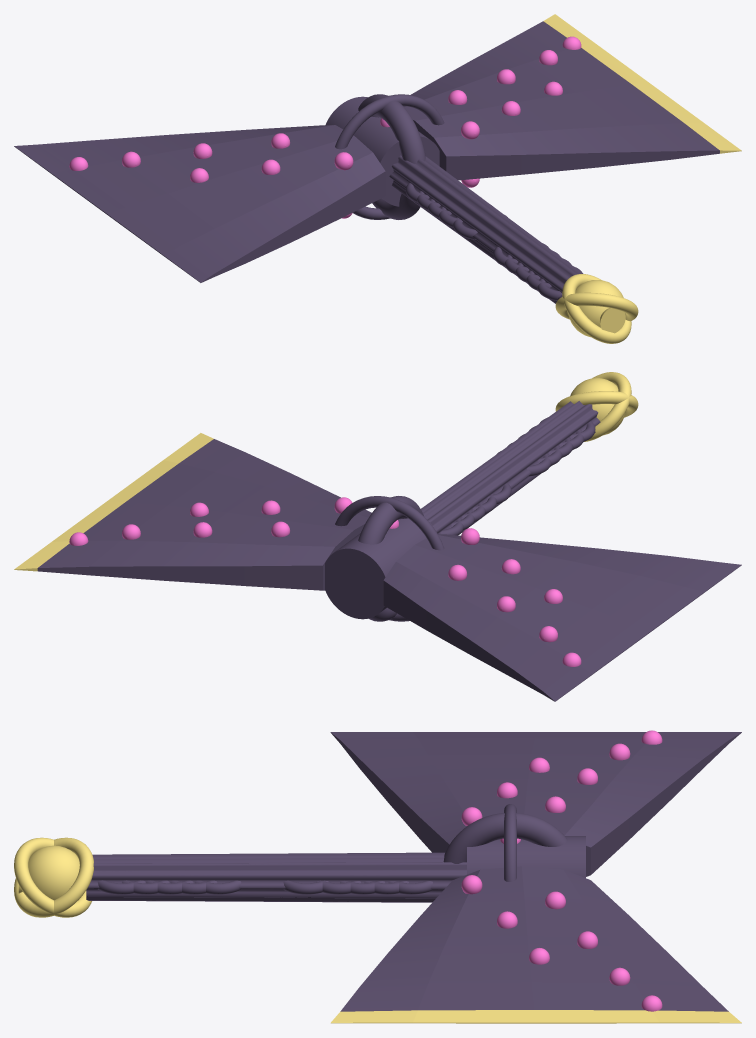
The model's file is art_genesis_sunderer.fbx.
3 views of the same model, one above another, from view 1: azimuth 30°, elevation 25°; view 2: azimuth 150°, elevation 25°; view 3: azimuth 270°, elevation 25° (orthographic). The views are drawn at different scales.
Visible parts, largest first — view 1: BackSpike, Blade, Handle, HeadCollar, Pommel, RuneInlay, BladeEdge; view 2: BackSpike, Blade, Handle, HeadCollar, RuneInlay, BladeEdge, Pommel; view 3: Blade, BackSpike, Handle, HeadCollar, Pommel, BladeEdge, RuneInlay.
Part boxes in pixels (<box>): BackSpike: <box>14,125,385,282</box>; Blade: <box>403,21,719,180</box>; Handle: <box>389,155,583,303</box>; HeadCollar: <box>325,94,444,219</box>; Pommel: <box>555,274,638,343</box>; RuneInlay: <box>69,36,581,218</box>; BladeEdge: <box>543,14,741,153</box>; BackSpike: <box>383,534,741,701</box>; Blade: <box>37,439,371,590</box>; Handle: <box>421,401,600,535</box>; HeadCollar: <box>325,496,444,621</box>; RuneInlay: <box>69,497,581,666</box>; BladeEdge: <box>14,433,213,571</box>; Pommel: <box>555,372,638,441</box>; Blade: <box>340,866,728,1011</box>; BackSpike: <box>330,732,741,876</box>; Handle: <box>86,852,466,902</box>; HeadCollar: <box>443,804,585,881</box>; Pommel: <box>14,837,93,917</box>; BladeEdge: <box>331,1010,741,1023</box>; RuneInlay: <box>461,730,662,1011</box>.
Size of the model in its own units: 428 by 92 by 453.
